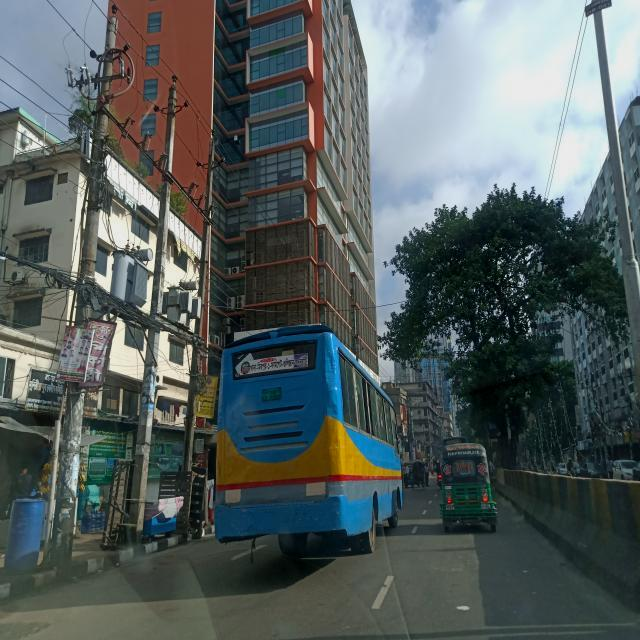bus: (214, 324, 405, 560)
